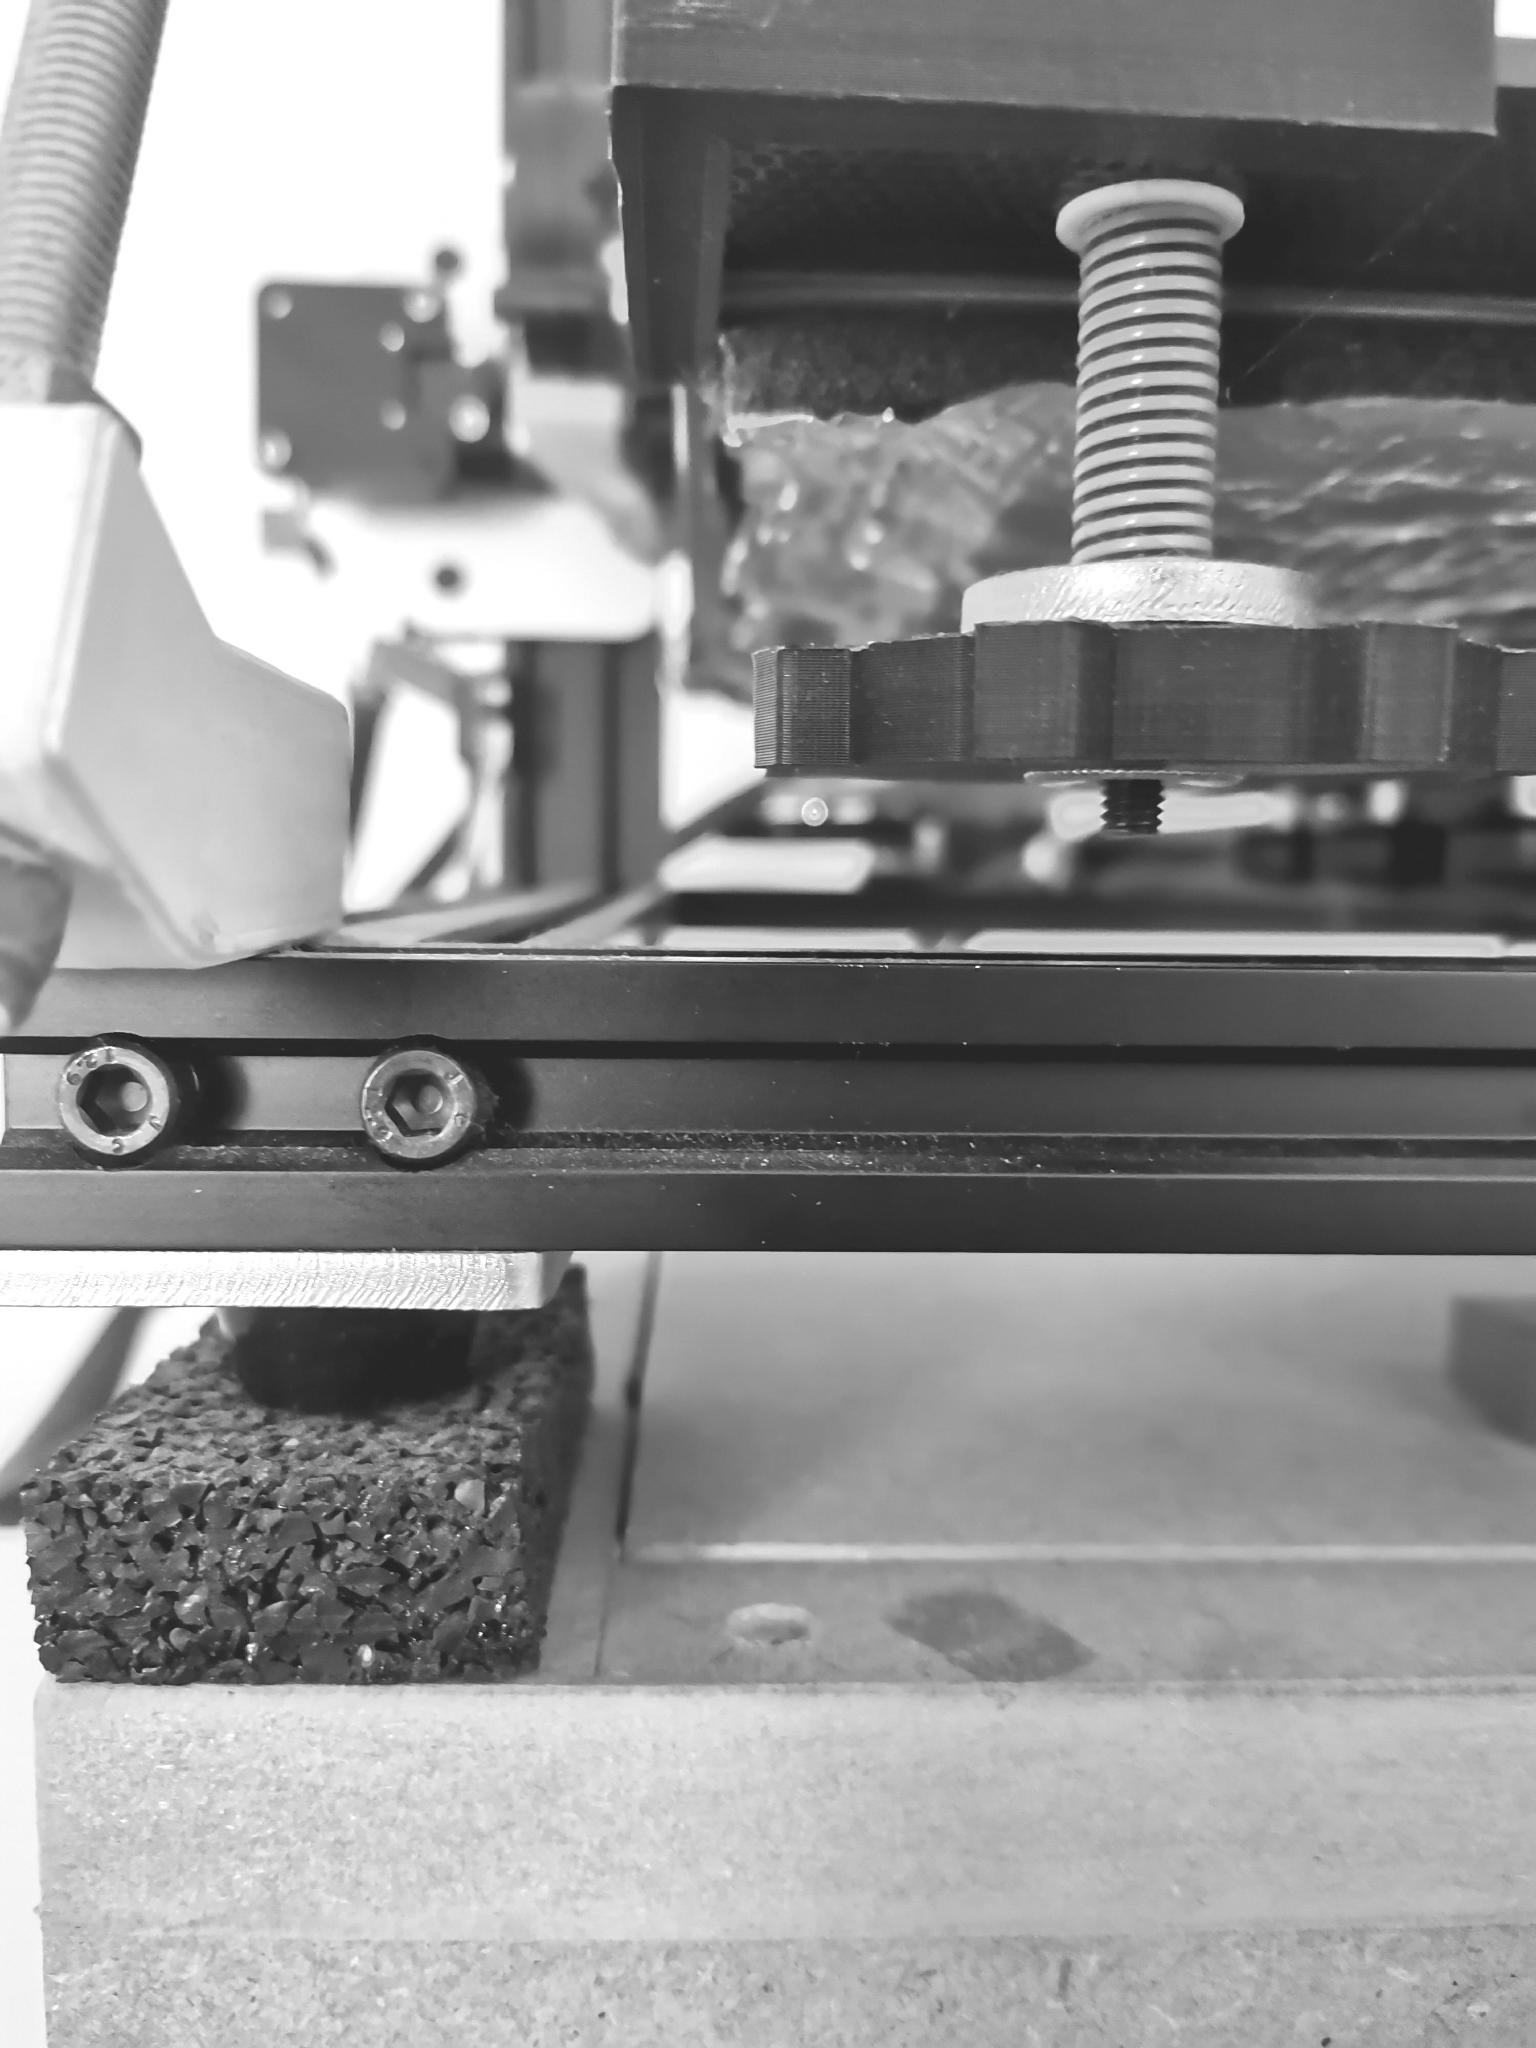screw: (352, 1042, 482, 1171), (48, 1040, 179, 1164)
